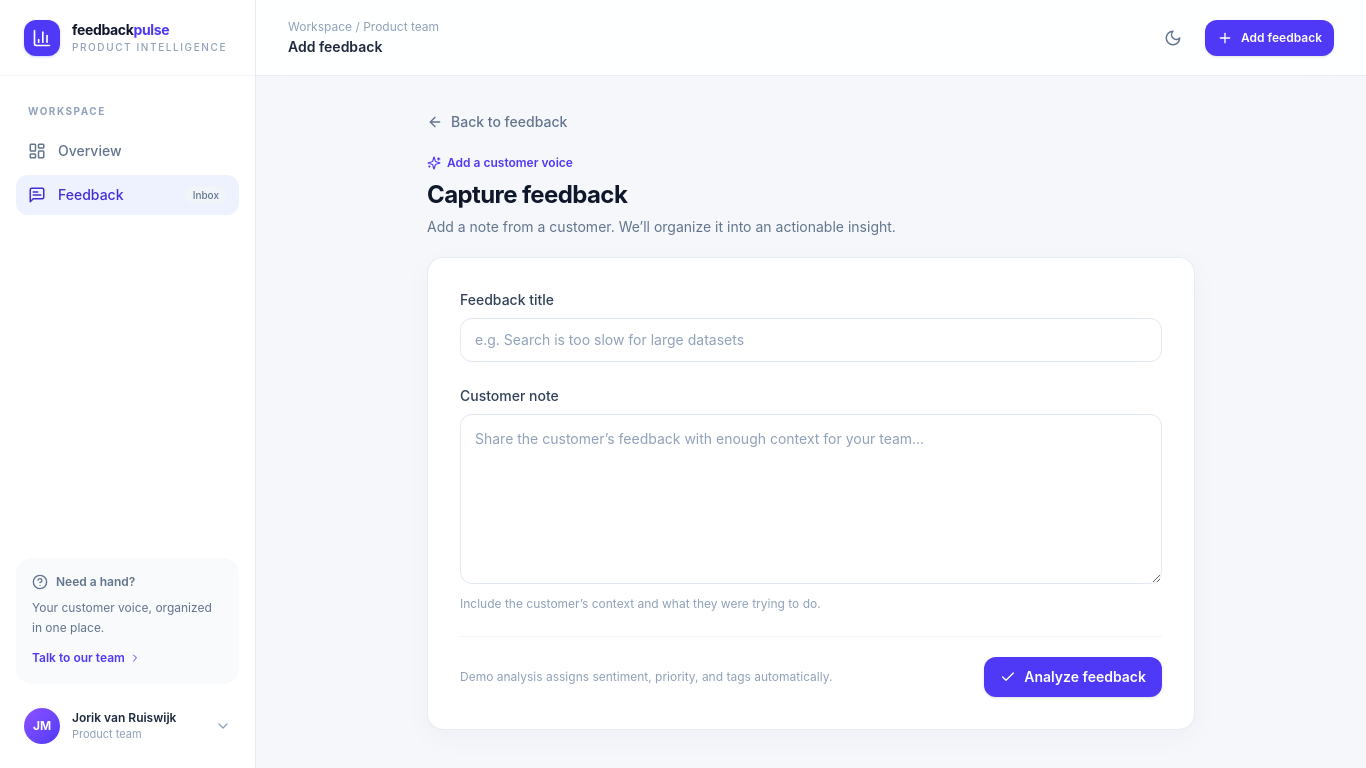
Test: new feedback form › communicates API failures and allows the form to be corrected
Later steps or results of the test are not shown.
In the field labelled "Feedback title": (811,340) top-left (460, 318), bottom-right (1162, 362), type "Checkout crashes on submit"
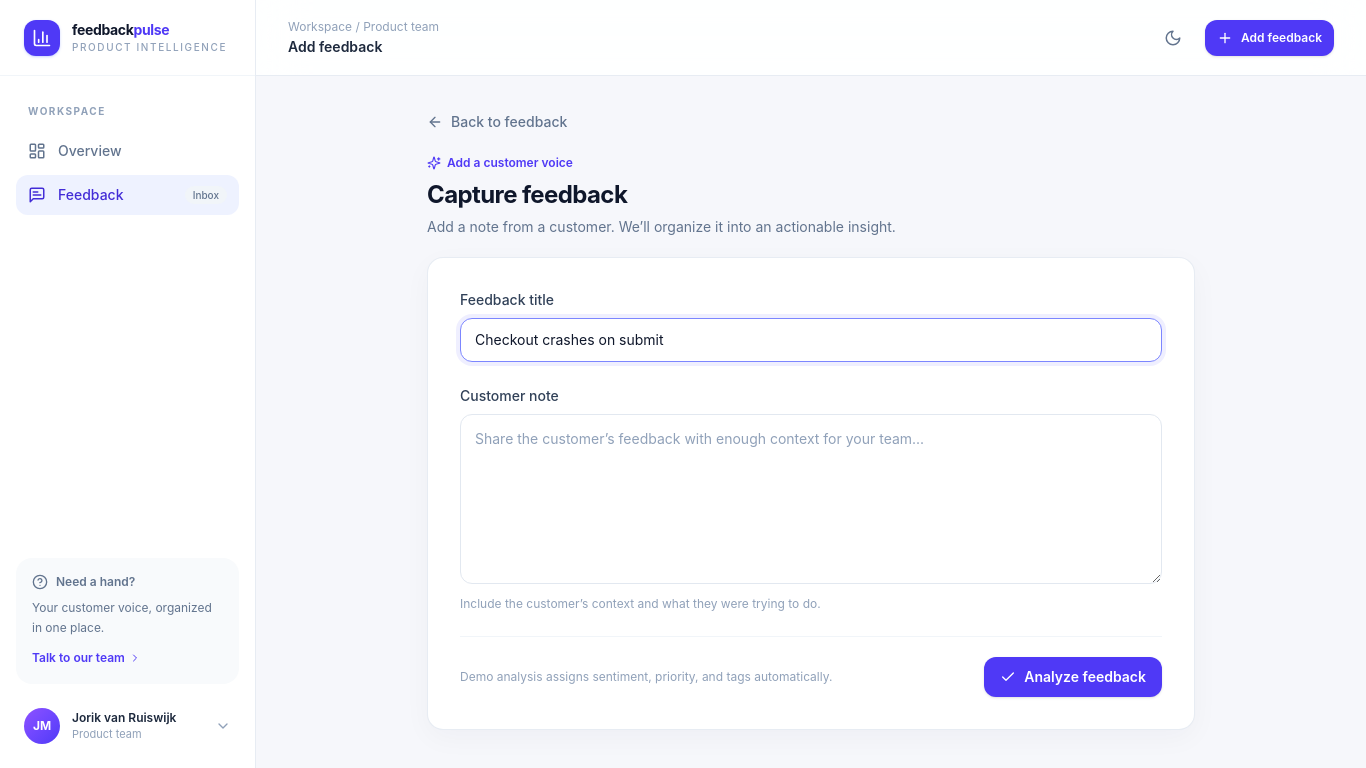
In the text box labelled "Customer note": (811,499) top-left (460, 414), bottom-right (1162, 584), type "The checkout crashes every time I submit an order and I cannot complete my purchase."
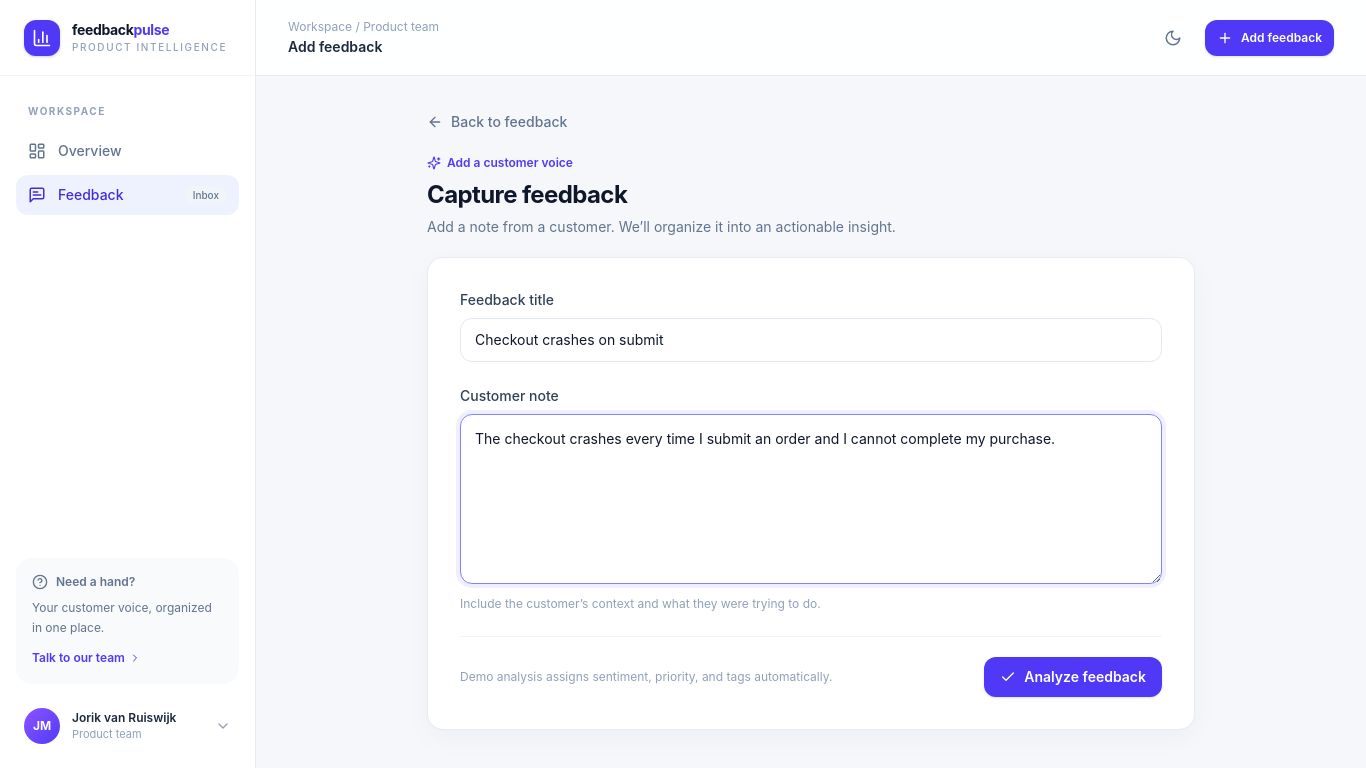
Click the button "Analyze feedback": (1073,677) top-left (984, 657), bottom-right (1162, 697)
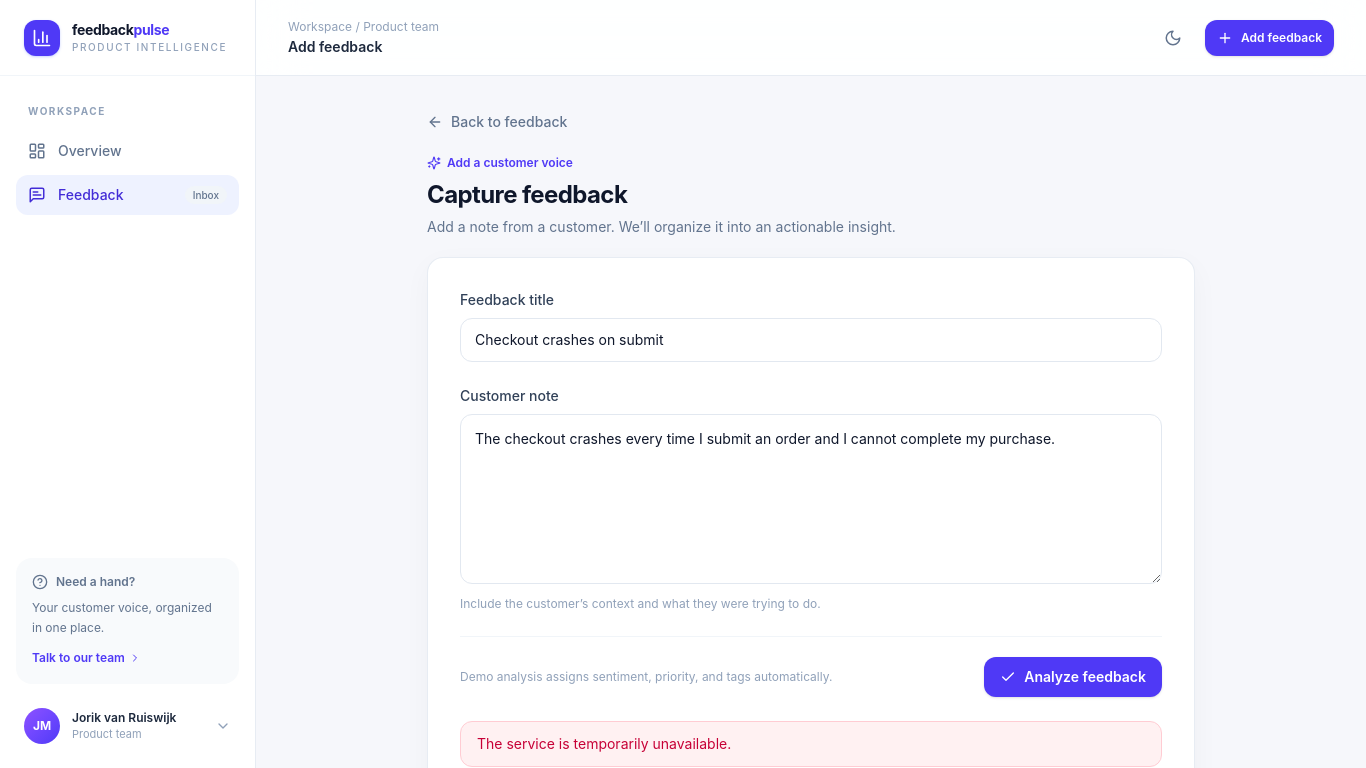
Result: the message reads "The service is temporarily unavailable." at top-left (477, 735), bottom-right (731, 752)
